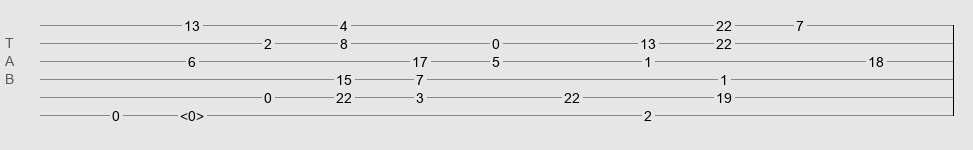0: (112, 108, 120, 118), (264, 90, 272, 100), (492, 36, 500, 46)
1: (644, 54, 652, 64), (720, 72, 728, 82)
13: (184, 18, 200, 28), (640, 36, 656, 46)
15: (336, 72, 352, 82)
17: (412, 54, 428, 64)
18: (868, 54, 884, 64)
19: (716, 90, 732, 100)
2: (264, 36, 272, 46), (644, 108, 652, 118)
22: (336, 90, 352, 100), (564, 90, 580, 100), (716, 36, 732, 46), (716, 18, 732, 28)
3: (416, 90, 424, 100)
4: (340, 18, 348, 28)
5: (492, 54, 500, 64)
6: (188, 54, 196, 64)
7: (416, 72, 424, 82), (796, 18, 804, 28)
8: (340, 36, 348, 46)
harmonic: (180, 108, 204, 118)
